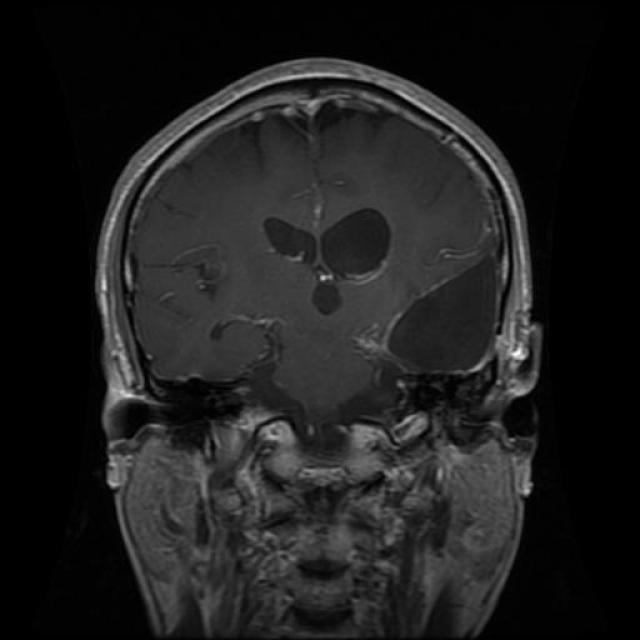glioma: (262, 212, 398, 314)
